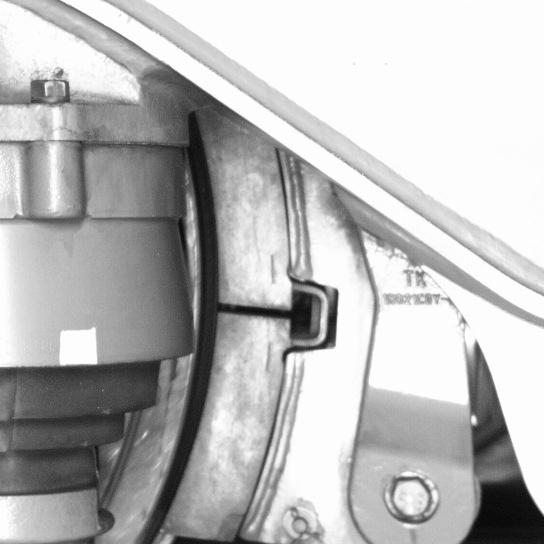KnifeSwitch: (131, 145, 314, 539)
